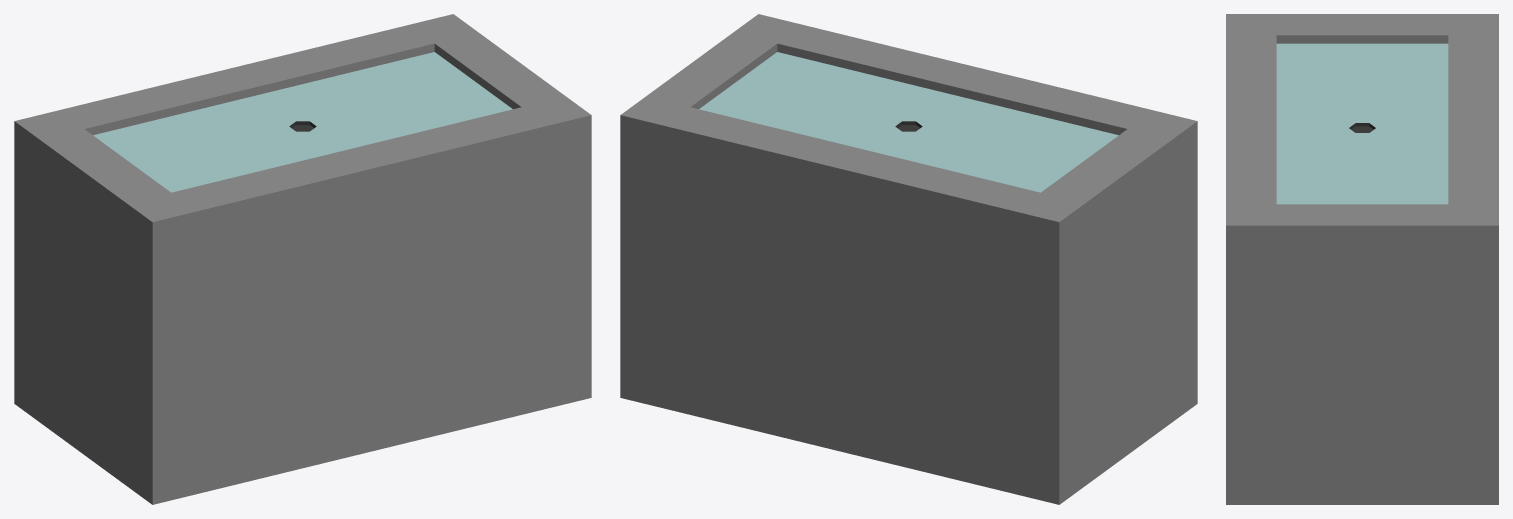
File: Asian_Prop_Shrine_Water_Purification_Basin_01.FBX
The picture shows the model from 3 angles, left to right: view 1: azimuth 30°, elevation 25°; view 2: azimuth 150°, elevation 25°; view 3: azimuth 270°, elevation 25°; orthographic projection.
Visible parts, largest first — view 1: Asian_Prop_Shrine_Water_Purification_Basin_01; view 2: Asian_Prop_Shrine_Water_Purification_Basin_01; view 3: Asian_Prop_Shrine_Water_Purification_Basin_01.
Part boxes in pixels (<box>): Asian_Prop_Shrine_Water_Purification_Basin_01: <box>14,14,591,504</box>; Asian_Prop_Shrine_Water_Purification_Basin_01: <box>620,14,1197,504</box>; Asian_Prop_Shrine_Water_Purification_Basin_01: <box>1226,14,1498,504</box>.
Size of the model in its own units: 1475 by 908 by 804.
